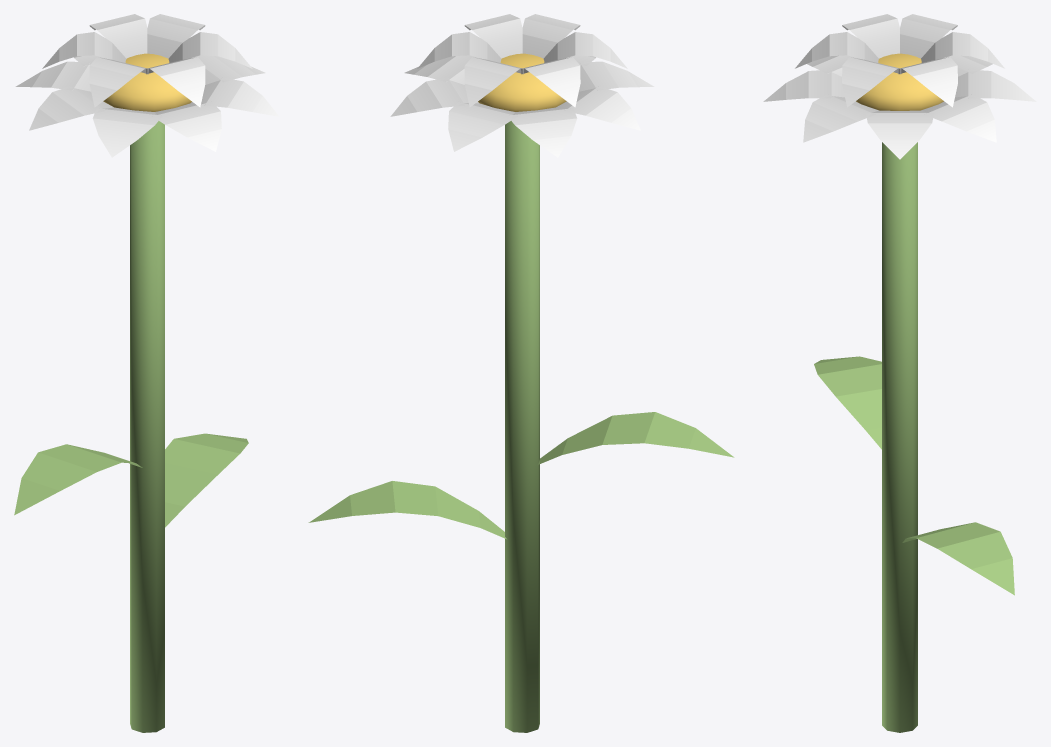
The model's file is GardenFlower.glb.
The picture shows the model from 3 angles, left to right: view 1: azimuth 30°, elevation 25°; view 2: azimuth 150°, elevation 25°; view 3: azimuth 270°, elevation 25°; orthographic projection.
Parts seen in each view (by area): view 1: GardenFlower_Stem, GardenFlower_Petals, GardenFlower_Leaves, GardenFlower_Center; view 2: GardenFlower_Stem, GardenFlower_Petals, GardenFlower_Leaves, GardenFlower_Center; view 3: GardenFlower_Stem, GardenFlower_Petals, GardenFlower_Leaves, GardenFlower_Center.
Boxes of the visible parts, x1,y1,x2,y2 form: GardenFlower_Stem: [130, 121, 164, 732]; GardenFlower_Petals: [15, 14, 279, 157]; GardenFlower_Leaves: [14, 433, 248, 527]; GardenFlower_Center: [103, 53, 191, 111]; GardenFlower_Stem: [505, 121, 539, 732]; GardenFlower_Petals: [390, 14, 654, 157]; GardenFlower_Leaves: [308, 412, 734, 539]; GardenFlower_Center: [478, 53, 566, 111]; GardenFlower_Stem: [882, 142, 917, 732]; GardenFlower_Petals: [763, 14, 1036, 159]; GardenFlower_Leaves: [814, 356, 1014, 595]; GardenFlower_Center: [856, 53, 943, 110].
Bounding box in the file's own units: 0.2306 × 0.456 × 0.166.
